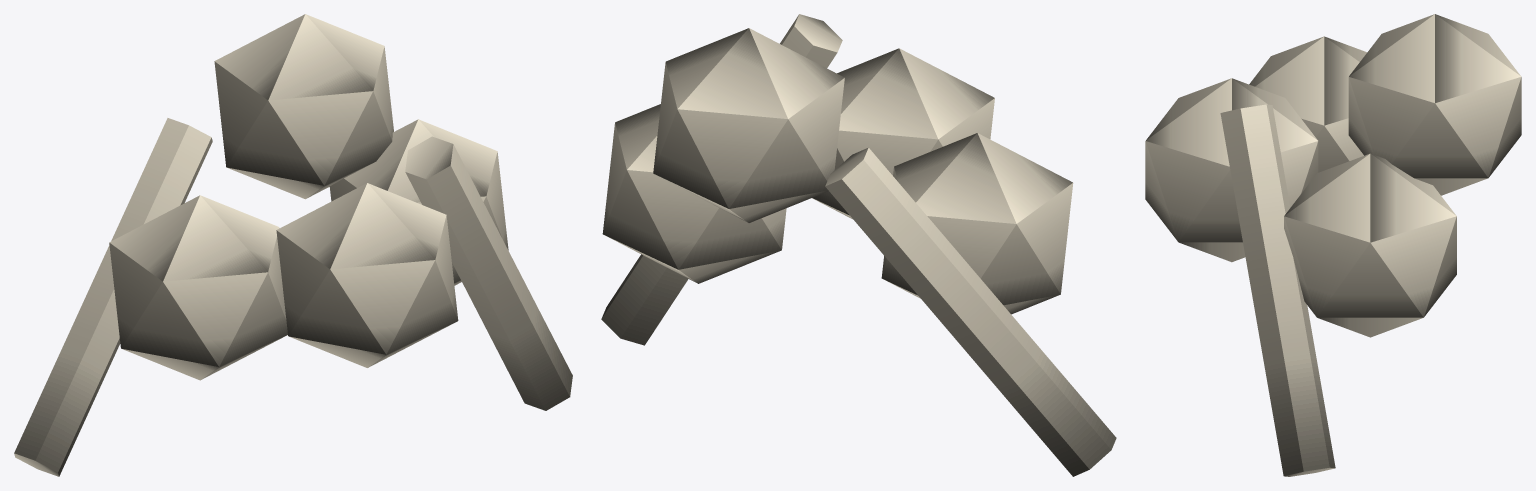
File: bone_pile.glb
The picture shows the model from 3 angles, left to right: view 1: azimuth 30°, elevation 25°; view 2: azimuth 150°, elevation 25°; view 3: azimuth 270°, elevation 25°; orthographic projection. The views are drawn at different scales.
Visible parts, largest first — view 1: bone_pile; view 2: bone_pile; view 3: bone_pile.
Boxes of the visible parts, x1,y1,x2,y2 form: bone_pile: (14,14,572,476); bone_pile: (601,14,1116,476); bone_pile: (1145,14,1521,476).
Bounding box in the file's own units: 0.6449 × 0.4562 × 0.4071.
Materials: 1 (1 with a texture image).
